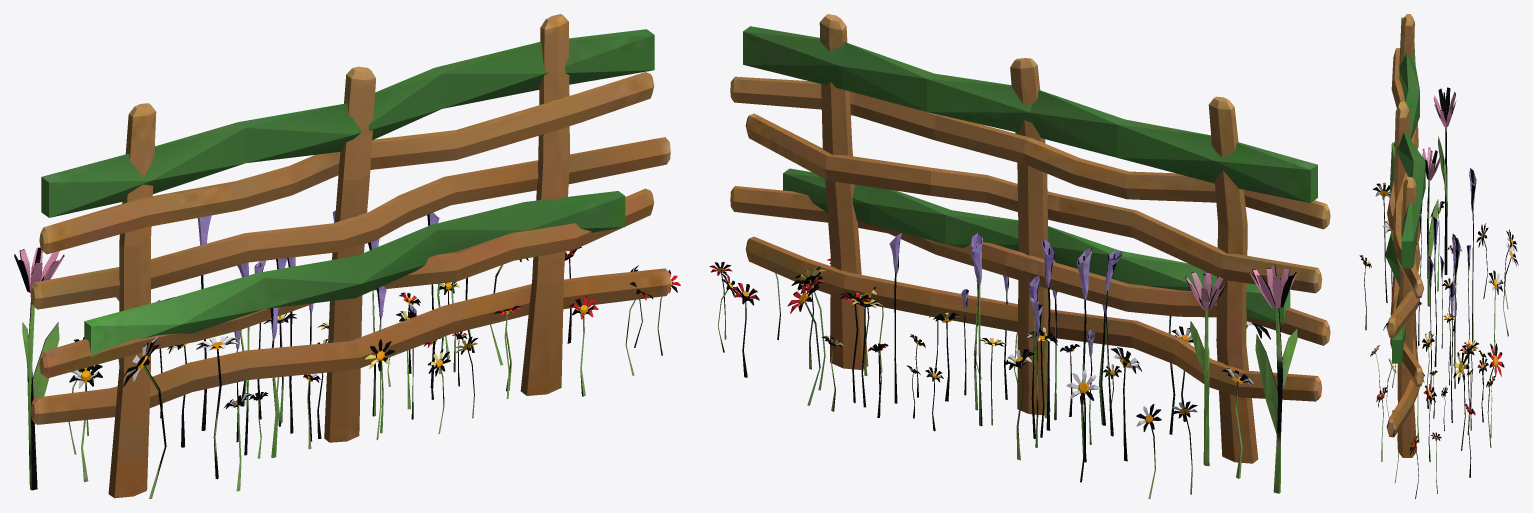
The model's file is fence_flower_lattice.glb.
3 views of the same model, side by side, from view 1: azimuth 30°, elevation 25°; view 2: azimuth 150°, elevation 25°; view 3: azimuth 270°, elevation 25° (orthographic). The views are drawn at different scales.
Parts seen in each view (by area): view 1: fence_flower_lattice; view 2: fence_flower_lattice; view 3: fence_flower_lattice.
Boxes of the visible parts, x1,y1,x2,y2 form: fence_flower_lattice: (14, 14, 680, 498); fence_flower_lattice: (709, 14, 1330, 498); fence_flower_lattice: (1359, 14, 1518, 498).
Bounding box in the file's own units: 1.07 × 0.6 × 0.3.
1 material, 1 textured.
